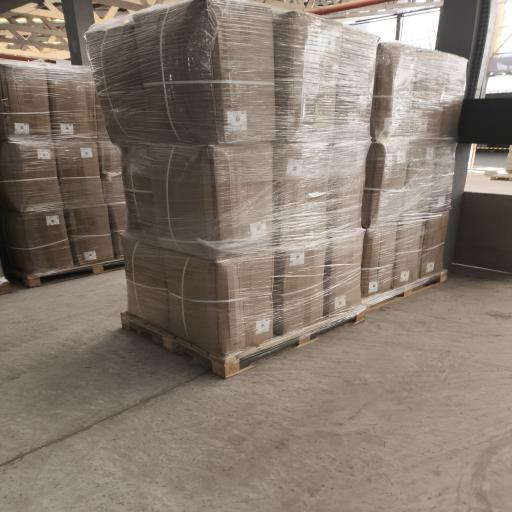pallet: (121, 308, 364, 378), (363, 270, 447, 312), (6, 258, 124, 287), (0, 281, 11, 295), (491, 174, 511, 181)
